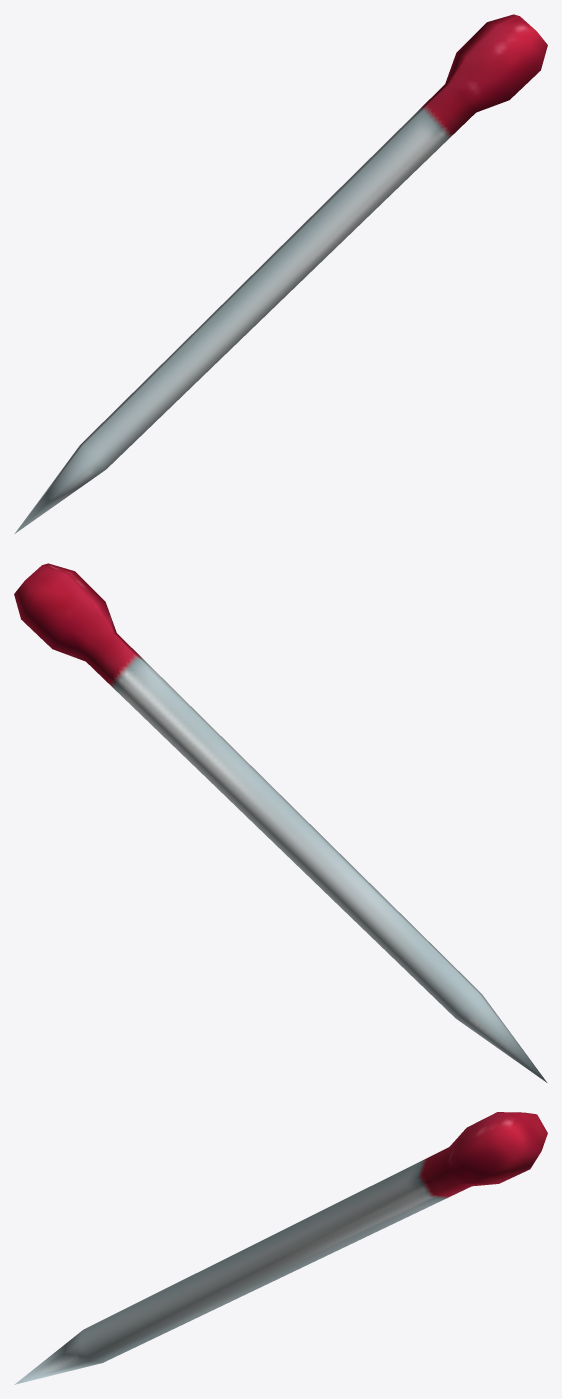
The model's file is WuZhengDiaoChaKe_01_xiguan_01.FBX.
The picture shows the model from 3 angles, top to bottom: view 1: azimuth 30°, elevation 25°; view 2: azimuth 150°, elevation 25°; view 3: azimuth 330°, elevation 25°; orthographic projection.
Parts seen in each view (by area): view 1: WuZhengDiaoChaKe_01_xiguan_01; view 2: WuZhengDiaoChaKe_01_xiguan_01; view 3: WuZhengDiaoChaKe_01_xiguan_01.
Part boxes in pixels (left/top/right/bottom): WuZhengDiaoChaKe_01_xiguan_01: left=14, top=14, right=547, bottom=533; WuZhengDiaoChaKe_01_xiguan_01: left=14, top=563, right=547, bottom=1082; WuZhengDiaoChaKe_01_xiguan_01: left=14, top=1112, right=547, bottom=1384.
Size of the model in its own units: 102 by 72.87 by 12.6.
